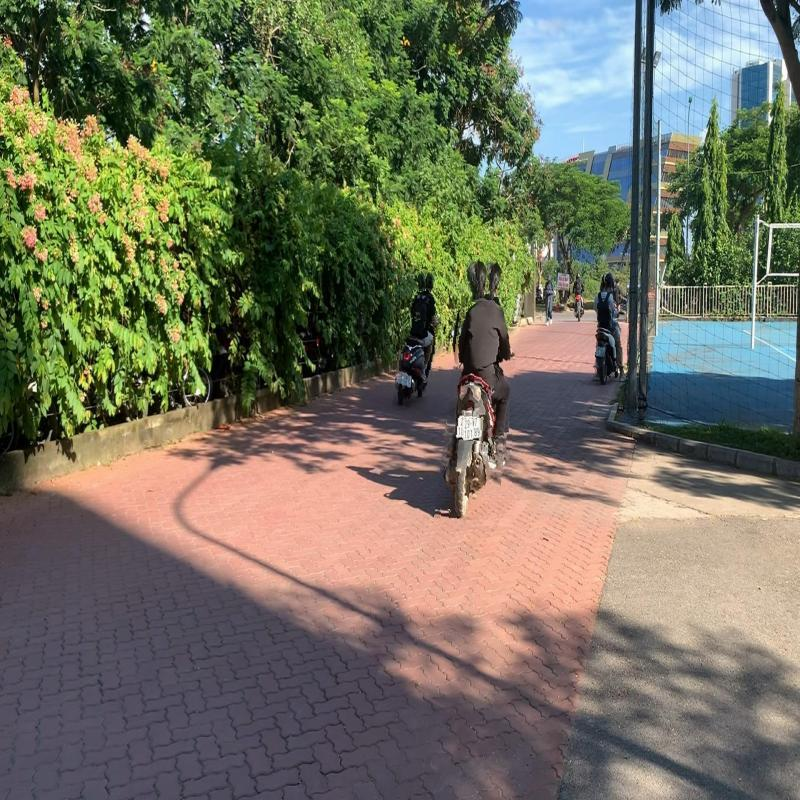helmet: (604, 272, 615, 292), (418, 272, 426, 291)
licenseplate: (462, 418, 483, 441), (402, 374, 412, 389), (596, 346, 604, 358)
motorcyclist: (442, 255, 520, 526), (396, 270, 446, 412), (590, 270, 627, 385)
nohelmet: (466, 259, 489, 302)
